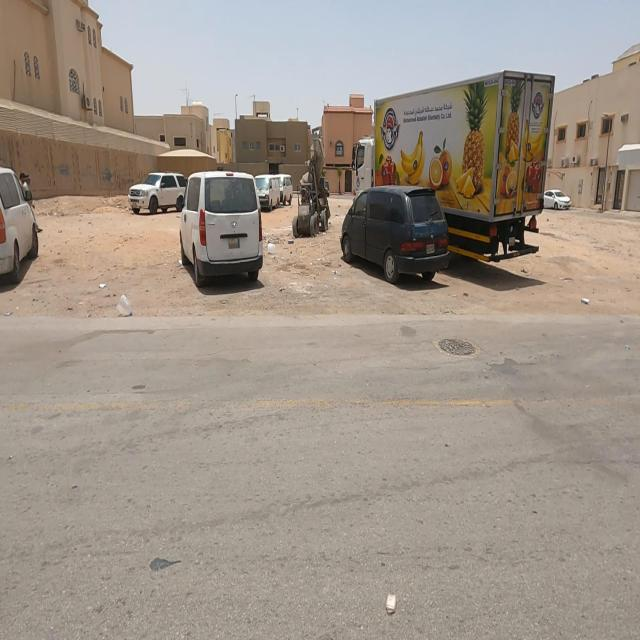Graffiti: (57, 164, 72, 178), (104, 168, 114, 182)
